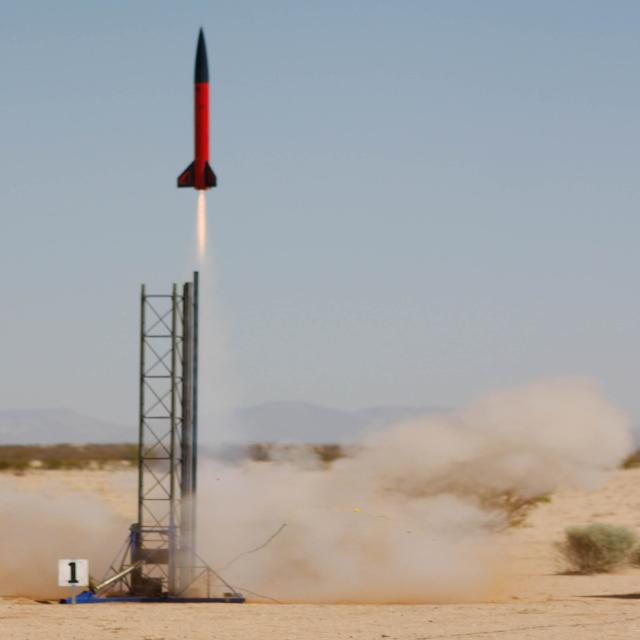Rocket: (176, 24, 218, 192)
